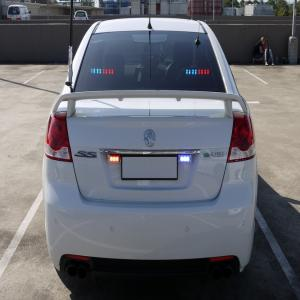Vehicle-registration-plate: (122, 155, 181, 182)
